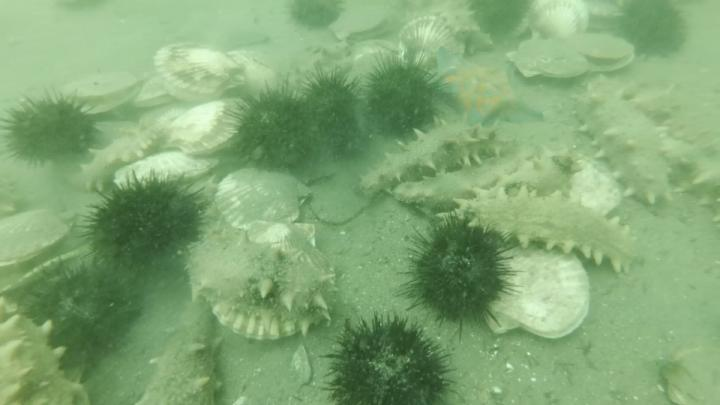echinus: (395, 214, 524, 342), (83, 168, 213, 274), (23, 258, 144, 365), (323, 310, 451, 405), (226, 77, 319, 173), (2, 90, 101, 170), (294, 61, 371, 163), (363, 51, 450, 140), (614, 1, 689, 64), (467, 1, 534, 41), (291, 1, 345, 30)
holothurian: (457, 183, 642, 279), (187, 228, 339, 328), (357, 114, 523, 203), (573, 83, 678, 212), (1, 297, 95, 405), (134, 297, 227, 405), (392, 154, 527, 215), (81, 119, 165, 197), (664, 134, 720, 231), (488, 145, 576, 199), (439, 7, 497, 56), (629, 81, 686, 125), (1, 160, 19, 219)
scallop: (207, 222, 339, 344), (484, 244, 594, 342), (212, 165, 314, 235), (153, 38, 249, 105), (159, 97, 251, 160), (1, 205, 81, 272), (112, 149, 224, 194), (58, 71, 146, 119), (398, 15, 468, 73), (504, 38, 591, 83), (659, 342, 720, 405), (223, 47, 280, 106), (326, 2, 403, 44), (575, 35, 639, 74), (531, 1, 590, 40), (137, 75, 172, 114), (589, 1, 625, 34)
starfish: (428, 47, 547, 129)
